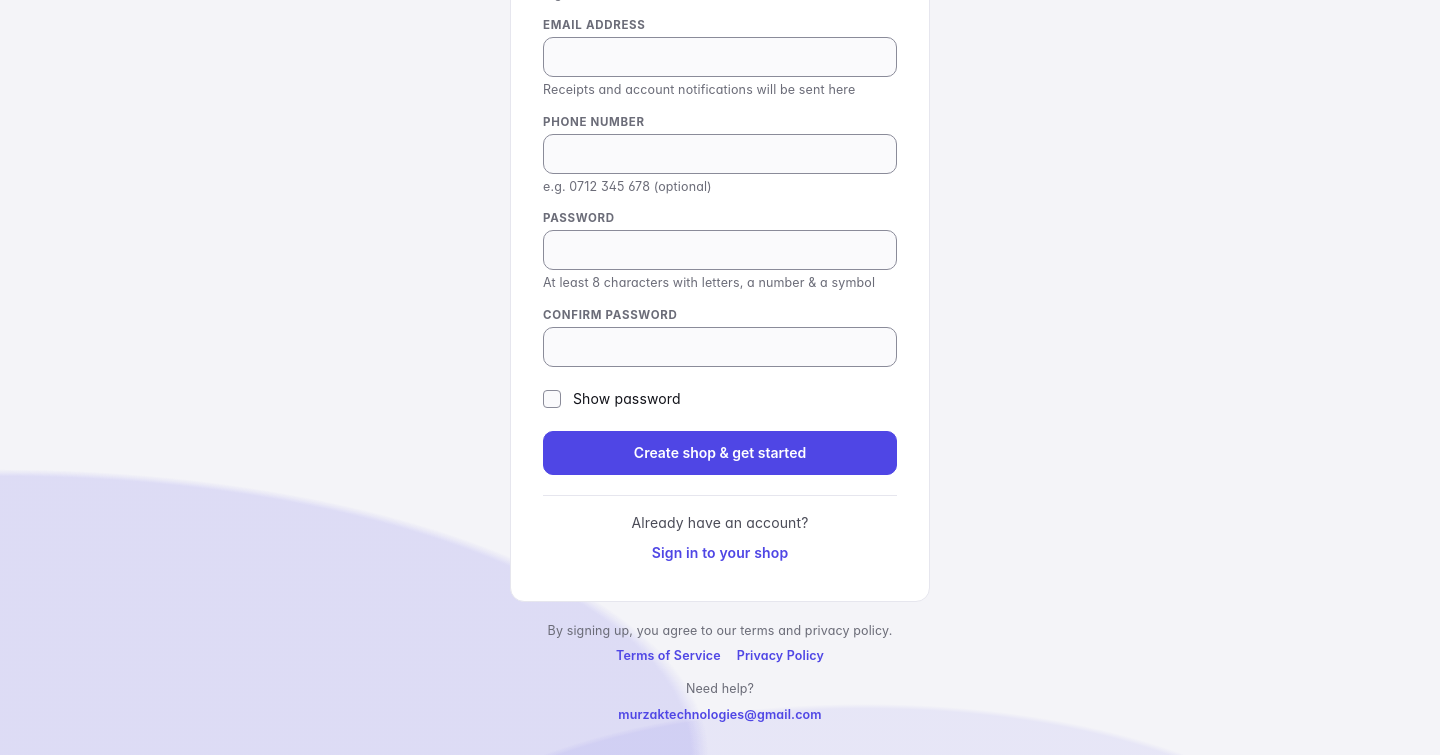
it: SignUpPage › validates required fields before sending
(page scrolled)
Click the button "Create shop & get started": (720, 453) [543,431,897,475]
(page scrolled)
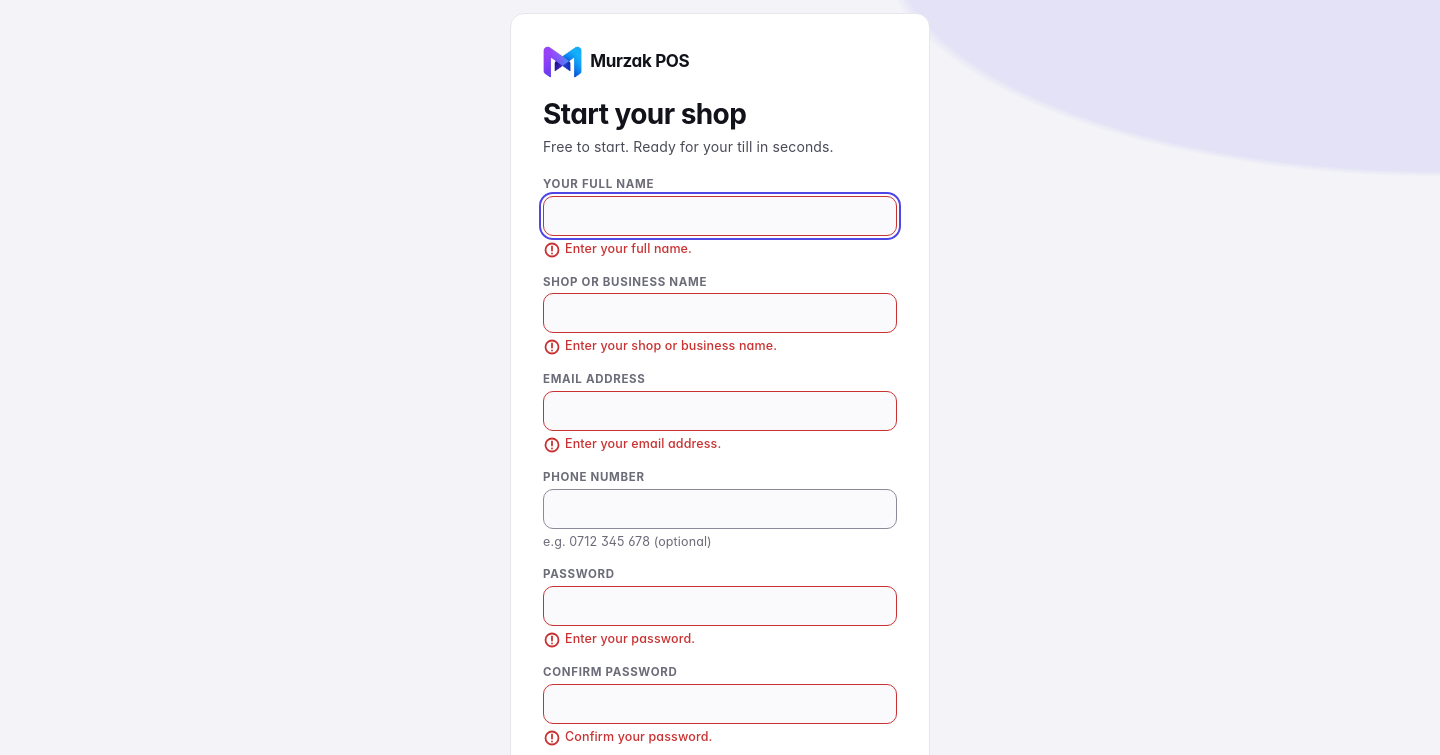
Check: the text "Enter your full name." is shown, box [565,240,692,257]
